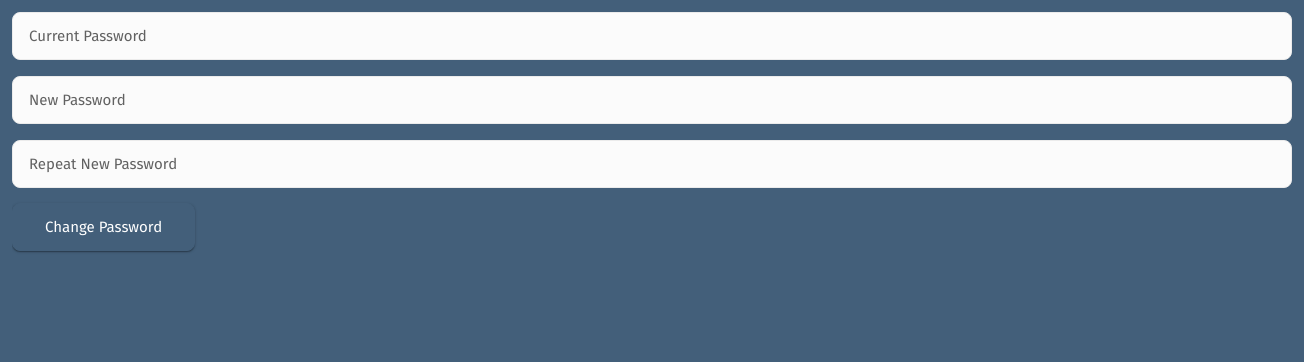
Scenario: PasswordChanging › successfully changes password
Type "supersecret" into the password field labelled "Current Password" at x=652, y=36, box [12,12,1292,60]
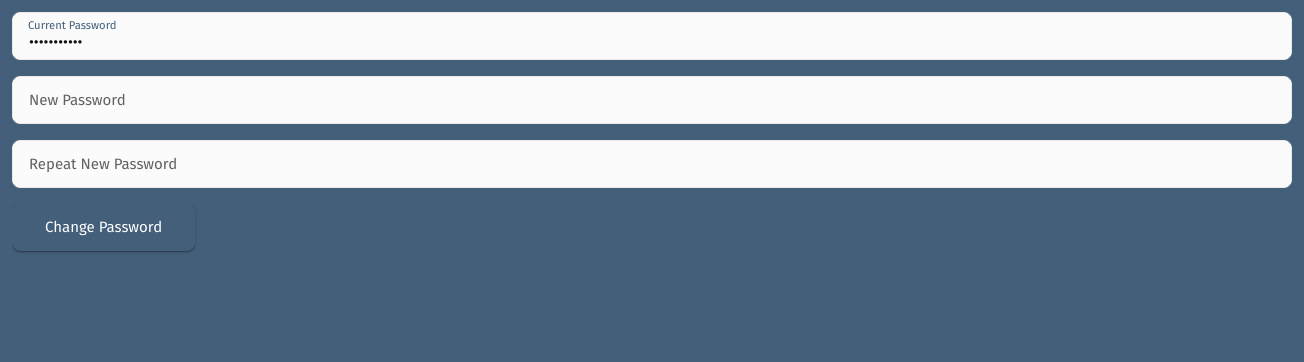
Type "timeforachange" into the password field labelled "New Password" at x=652, y=100, box [12,76,1292,124]
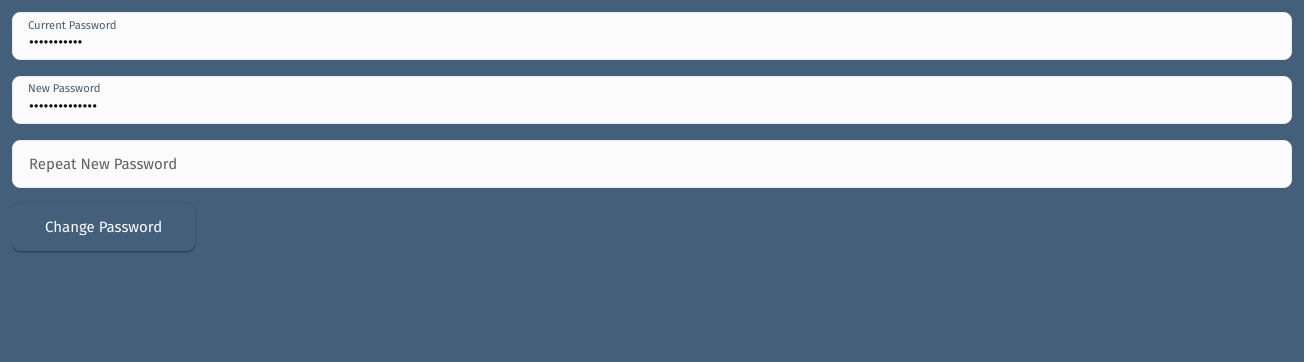
Type "timeforachange" into the password field labelled "Repeat New Password" at x=652, y=164, box [12,140,1292,188]
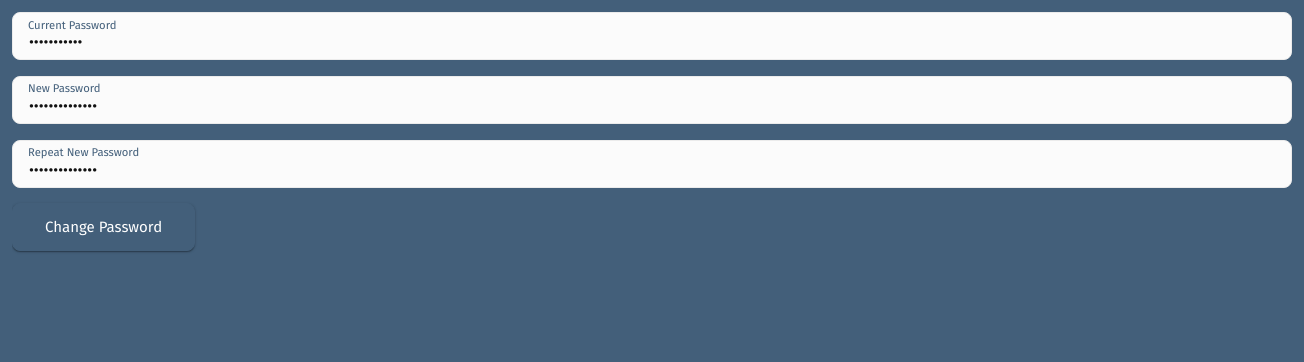
Click the button at x=104, y=227, box [12,203,195,251]
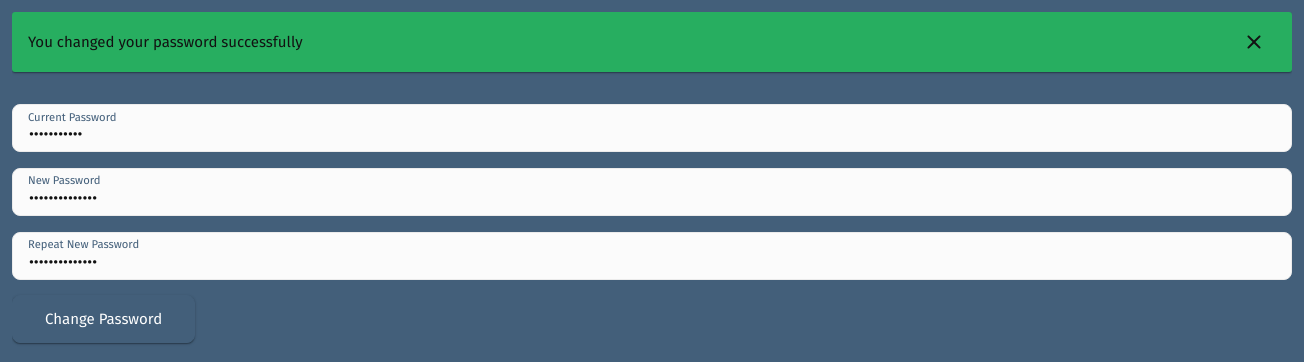
Now the text "You changed your password successfully" is shown, box [12,12,1292,72]
